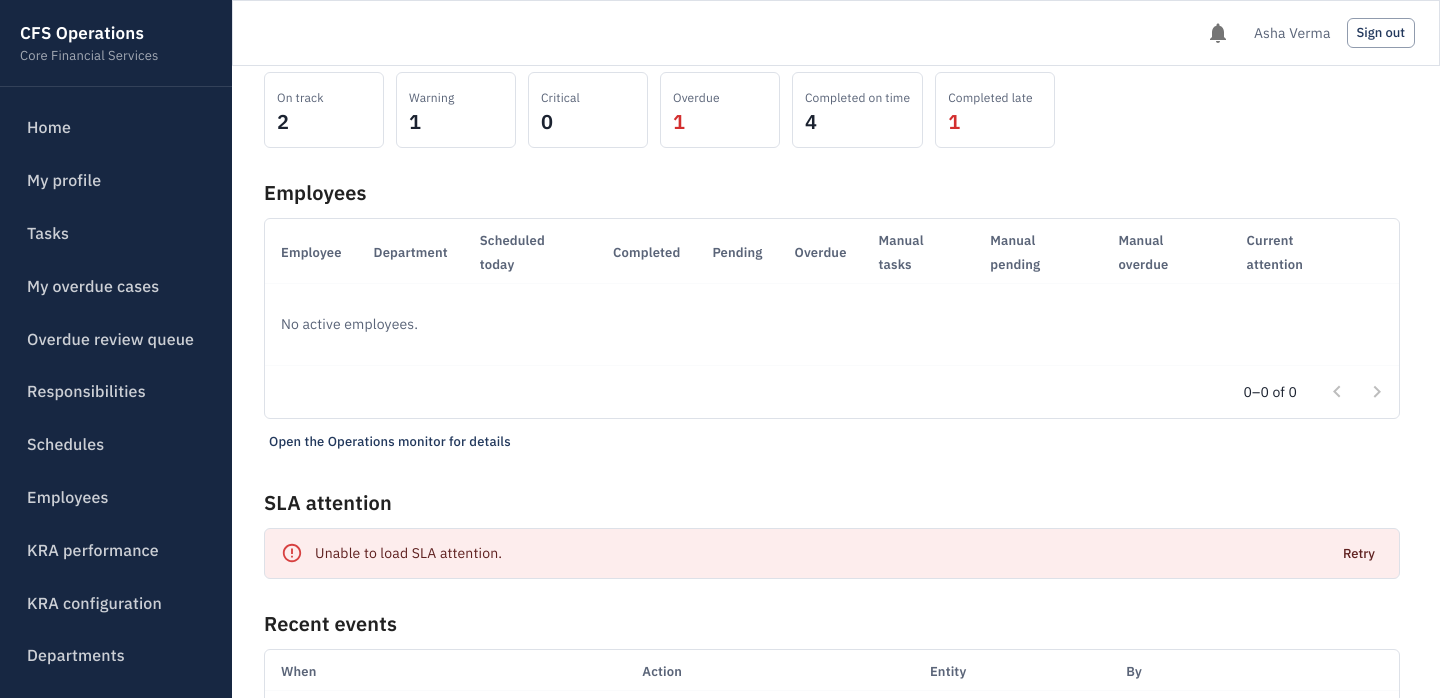
Test case: Command center (Admin = Boss) › shows an empty state, and a retryable error for SLA attention
(page scrolled)
Expected: the text "No active employees." is shown, [281,315,418,333]
Step 1. Click the button "Retry" → coordinates (1359, 554), box [1327,539,1391,570]
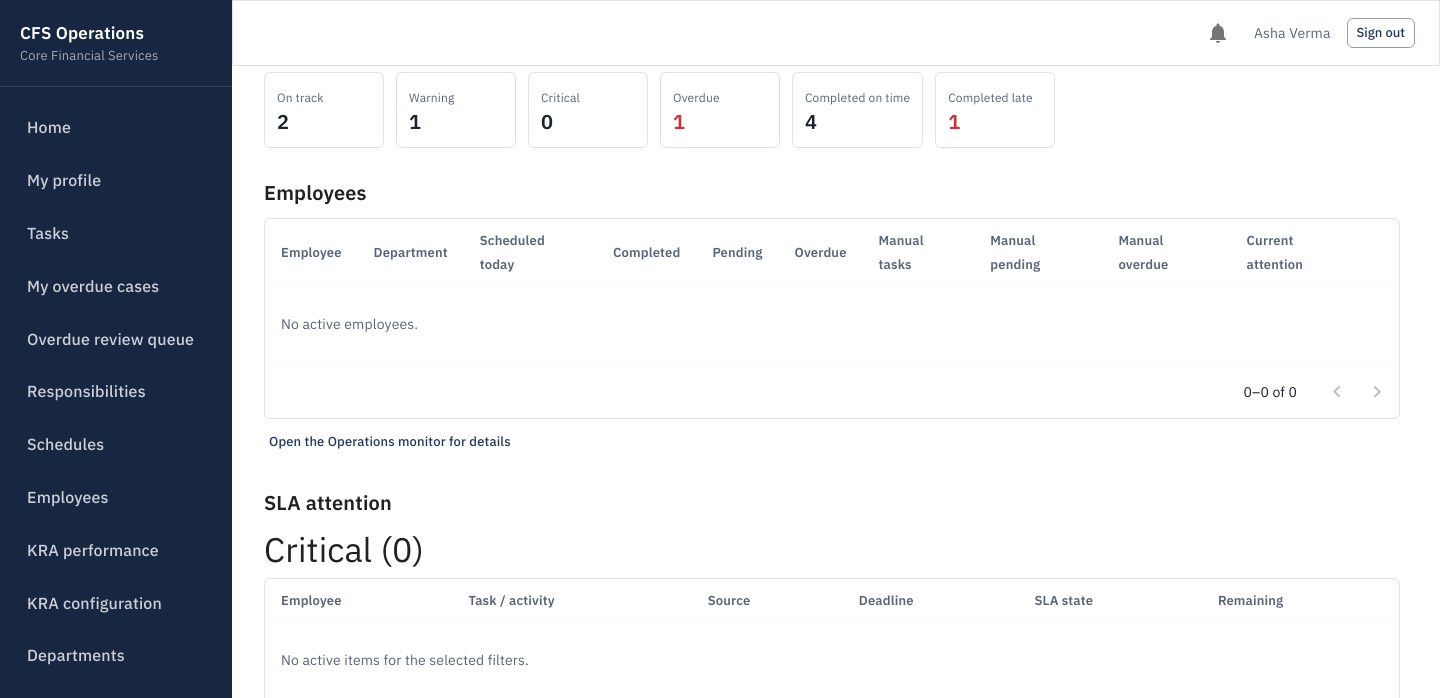
Expected: the text "No active items for the selected filters." is shown, [281,651,529,669]
